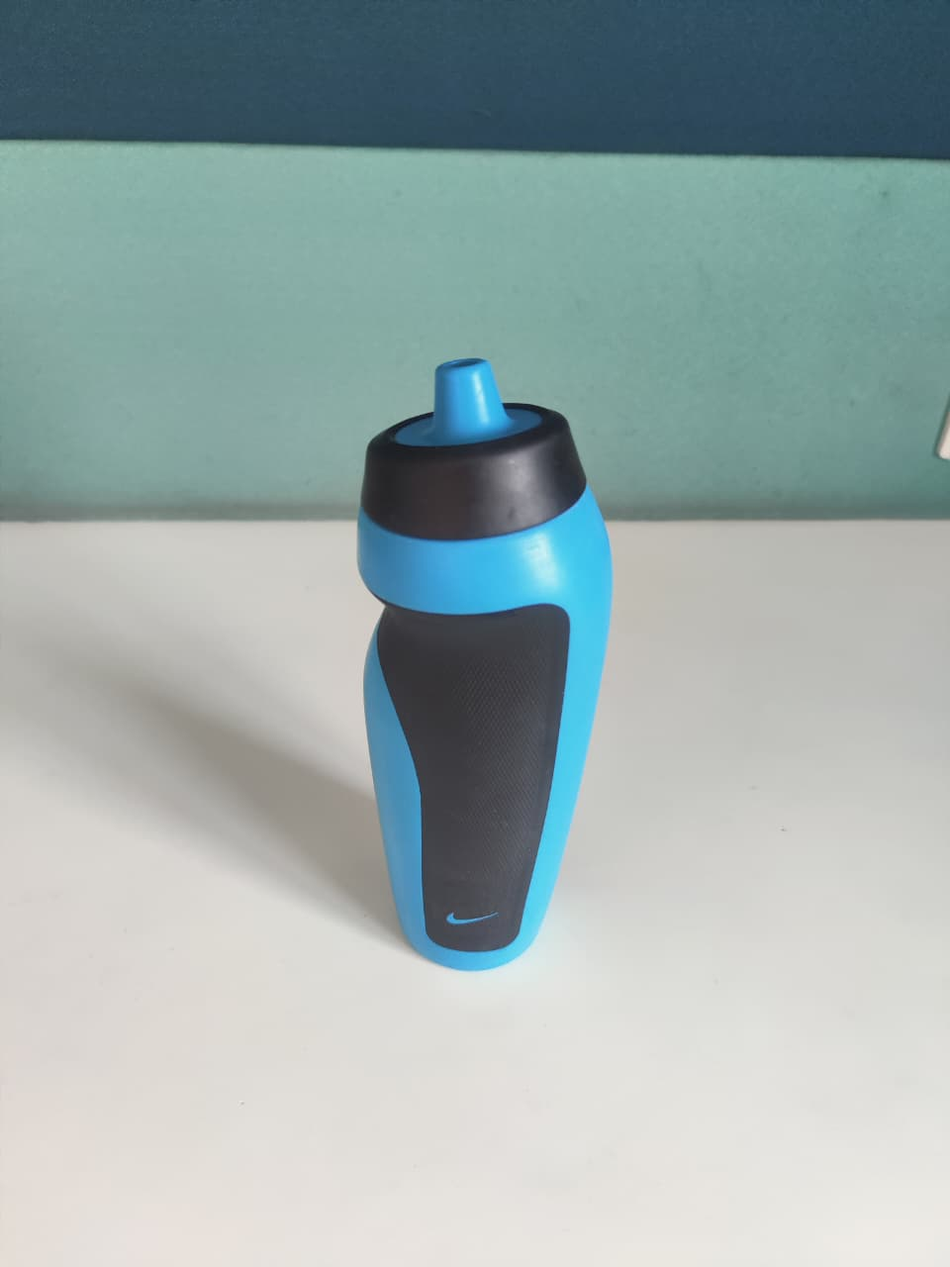bottle: (356, 357, 613, 971)
